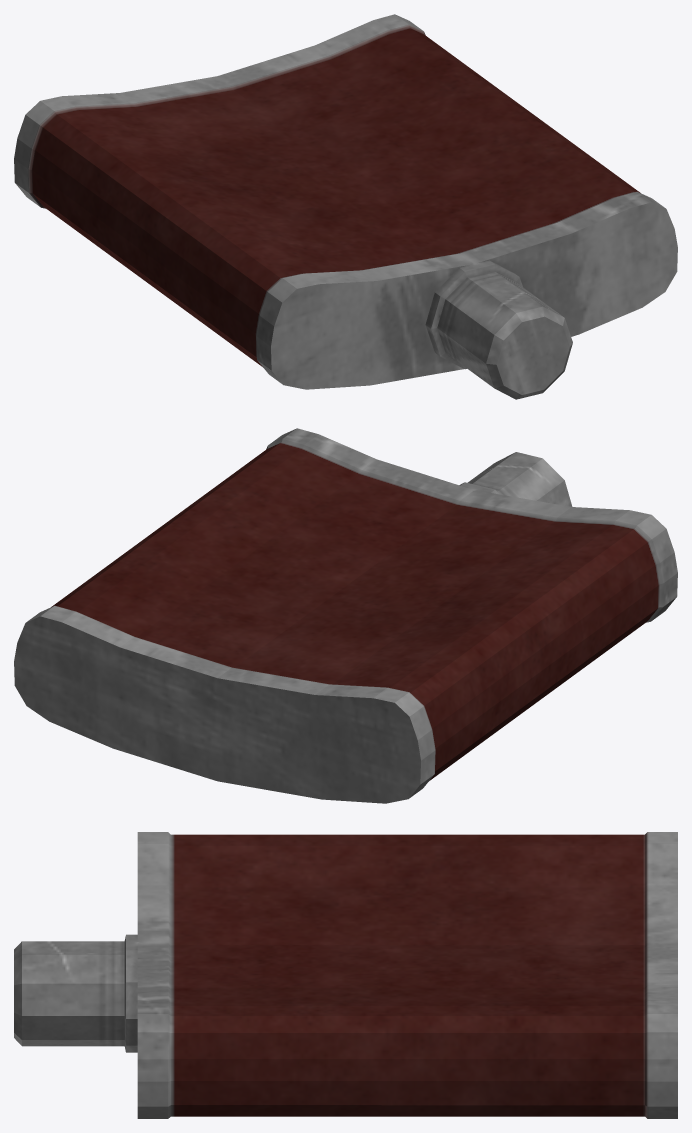
Rendered from SM_Souvenirs01F.fbx.
The picture shows the model from 3 angles, top to bottom: view 1: azimuth 30°, elevation 25°; view 2: azimuth 150°, elevation 25°; view 3: azimuth 270°, elevation 25°; orthographic projection. The views are drawn at different scales.
Visible parts, largest first — view 1: SM_Souvenirs01F_LOD0; view 2: SM_Souvenirs01F_LOD0; view 3: SM_Souvenirs01F_LOD0.
Boxes of the visible parts, x1=… form: SM_Souvenirs01F_LOD0: x1=14, y1=14, x2=677, y2=399; SM_Souvenirs01F_LOD0: x1=14, y1=428, x2=677, y2=803; SM_Souvenirs01F_LOD0: x1=14, y1=832, x2=677, y2=1118.
Size of the model in its own units: 18.49 by 5.29 by 24.85.
